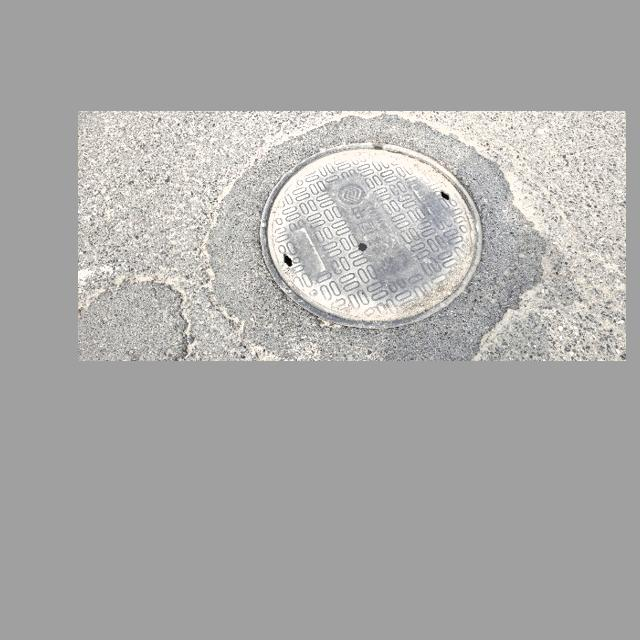good: (256, 146, 486, 334)
